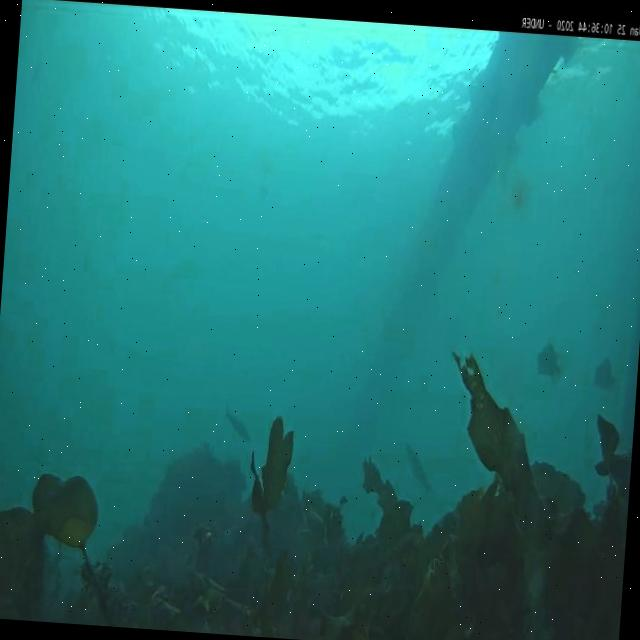fish: (402, 446, 433, 491), (589, 357, 619, 395), (222, 406, 252, 442), (536, 344, 564, 376)
